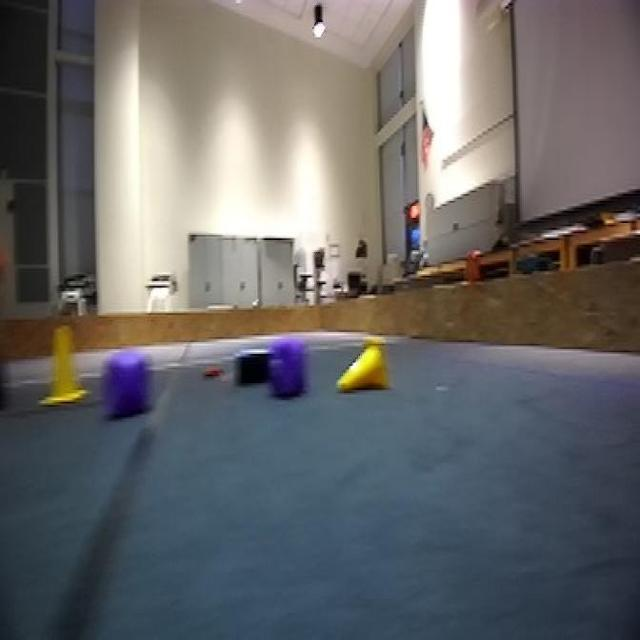frc_cone: (41, 318, 88, 408), (336, 330, 394, 402)
frc_cube: (108, 357, 152, 419), (268, 337, 308, 402)
